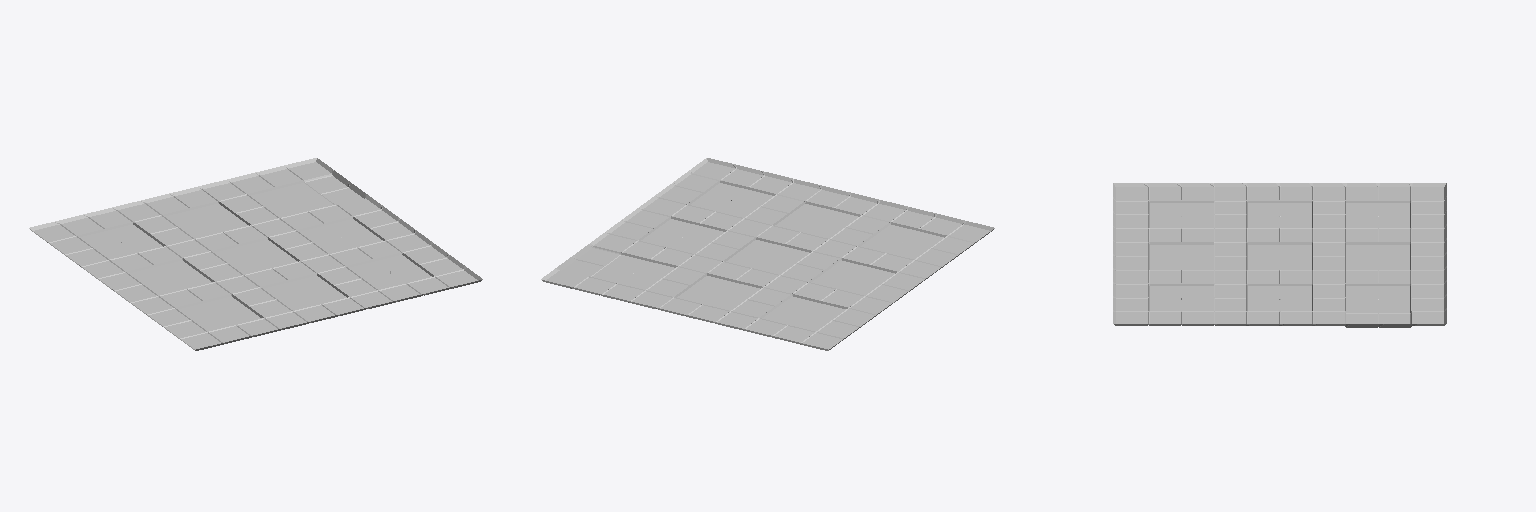
Rendered from Texture_ready_Arcade_Ceiling.obj.
The picture shows the model from 3 angles: view 1: azimuth 30°, elevation 25°; view 2: azimuth 150°, elevation 25°; view 3: azimuth 270°, elevation 25°; orthographic projection.
Parts seen in each view (by area): view 1: pPlane1; view 2: pPlane1; view 3: pPlane1.
Boxes of the visible parts, <box> form: pPlane1: <box>29,158,482,350</box>; pPlane1: <box>541,158,994,350</box>; pPlane1: <box>1113,183,1446,327</box>.
Size of the model in its own units: 601 by 9.46 by 601.